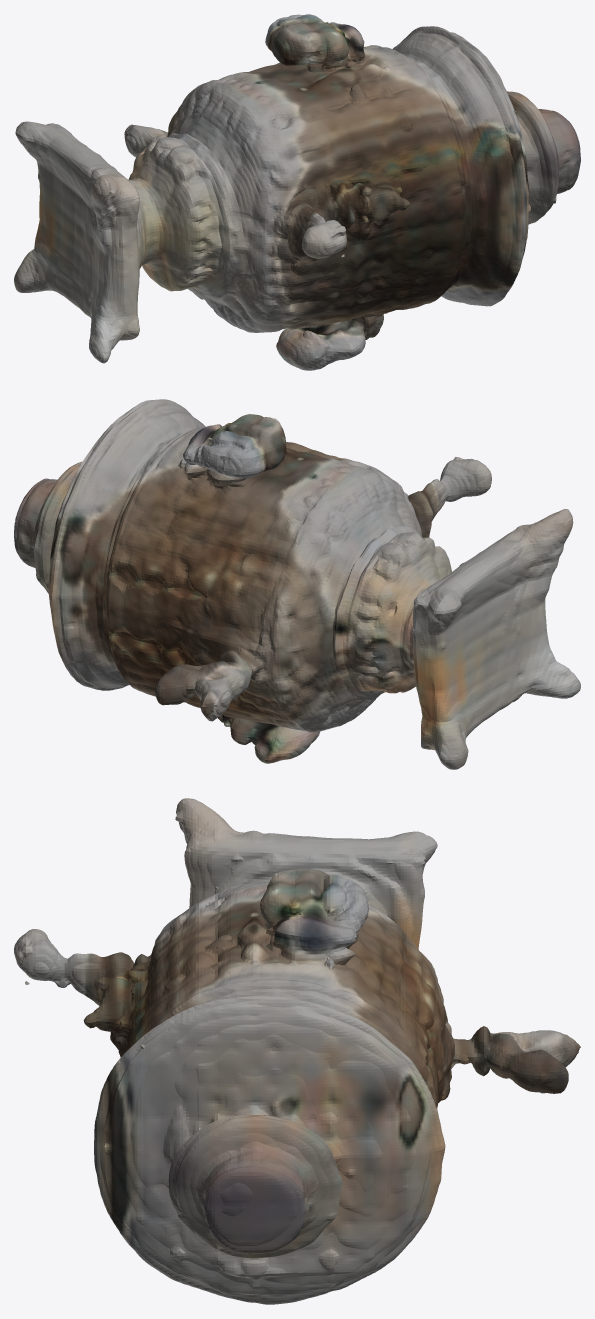
3 views of the same model, one above another, from view 1: azimuth 30°, elevation 25°; view 2: azimuth 150°, elevation 25°; view 3: azimuth 270°, elevation 25° (orthographic). The views are drawn at different scales.
Visible parts, largest first — view 1: geometry_0; view 2: geometry_0; view 3: geometry_0.
Part boxes in pixels (<box>): geometry_0: <box>14,14,580,370</box>; geometry_0: <box>14,399,580,769</box>; geometry_0: <box>14,798,580,1304</box>.
Bounding box in the file's own units: 0.9823 × 0.6103 × 0.8047.
